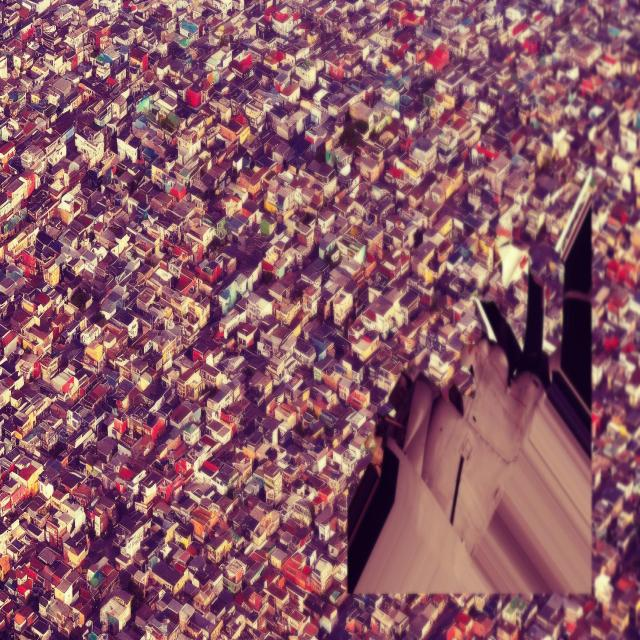airplane: (346, 167, 594, 602)
